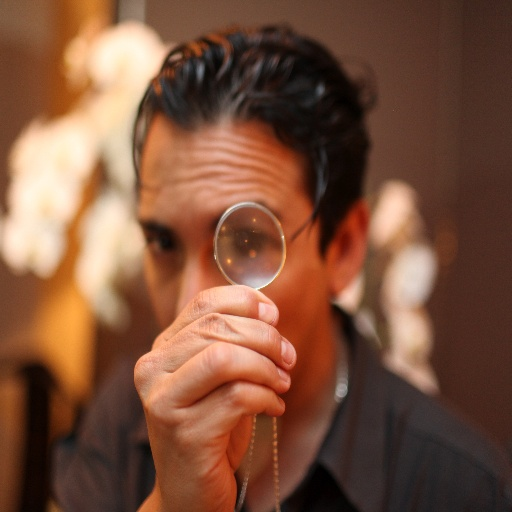hand: (139, 270, 316, 486)
